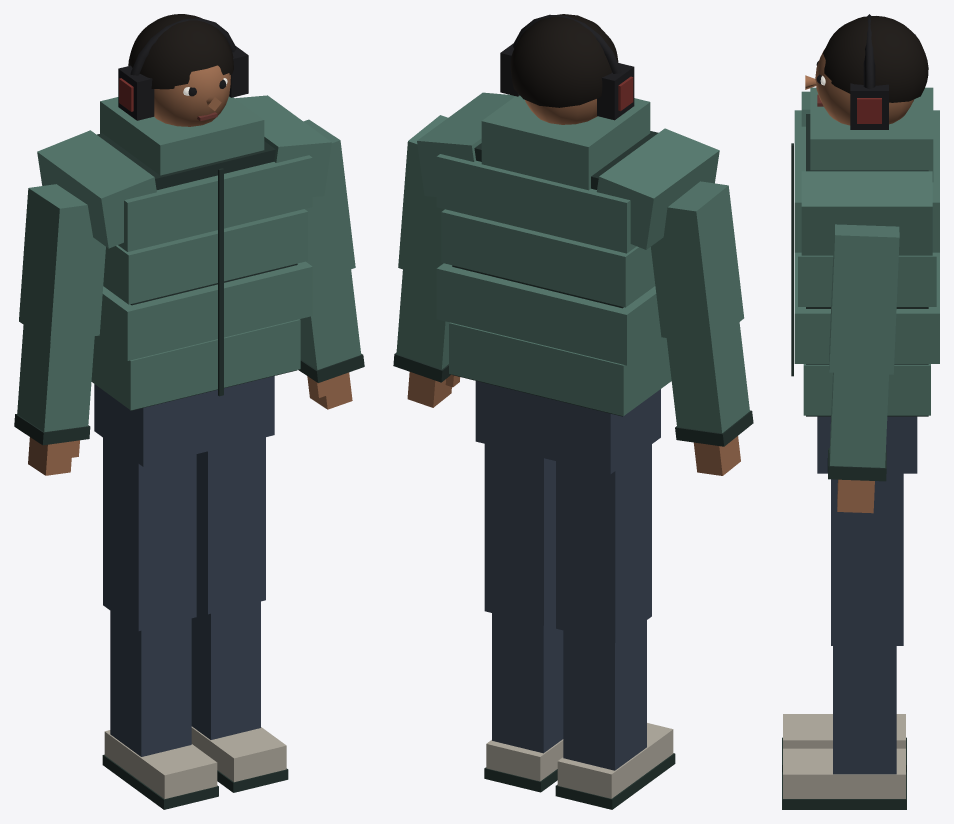
The model's file is passenger_puffer.glb.
3 renders of one model, left to right at view 1: azimuth 30°, elevation 25°; view 2: azimuth 150°, elevation 25°; view 3: azimuth 270°, elevation 25°, orthographic. The views are drawn at different scales.
Parts seen in each view (by area): view 1: passenger_puffer, Head, Head_Skin, Body_Skin; view 2: passenger_puffer, Head, Body_Skin, Head_Skin; view 3: passenger_puffer, Head, Head_Skin, Body_Skin.
Part boxes in pixels (bbox=[...]): passenger_puffer: bbox=[14, 95, 364, 809]; Head: bbox=[118, 14, 248, 121]; Head_Skin: bbox=[154, 65, 230, 126]; Body_Skin: bbox=[28, 372, 352, 475]; passenger_puffer: bbox=[393, 92, 753, 809]; Head: bbox=[500, 14, 634, 120]; Body_Skin: bbox=[407, 372, 740, 475]; Head_Skin: bbox=[525, 99, 597, 124]; passenger_puffer: bbox=[782, 87, 939, 809]; Head: bbox=[817, 14, 928, 129]; Head_Skin: bbox=[805, 49, 913, 125]; Body_Skin: bbox=[837, 479, 874, 513].
Size of the model in its own units: 0.8347 by 1.84 by 0.3475.
